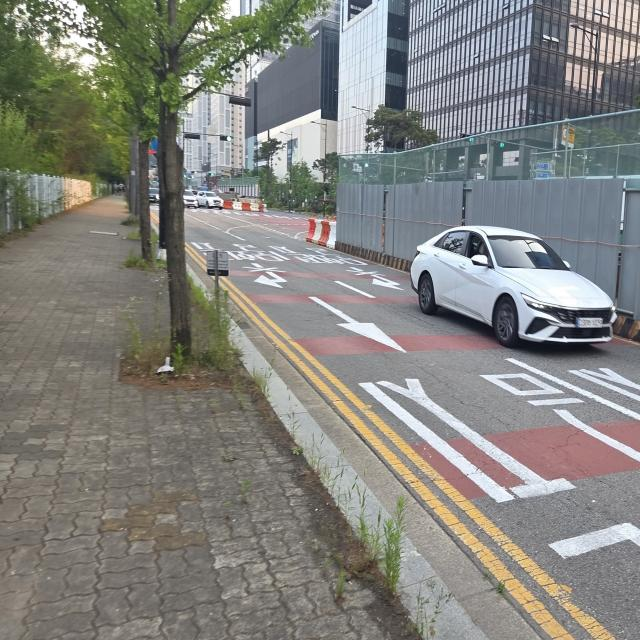car: (404, 199, 634, 378)
